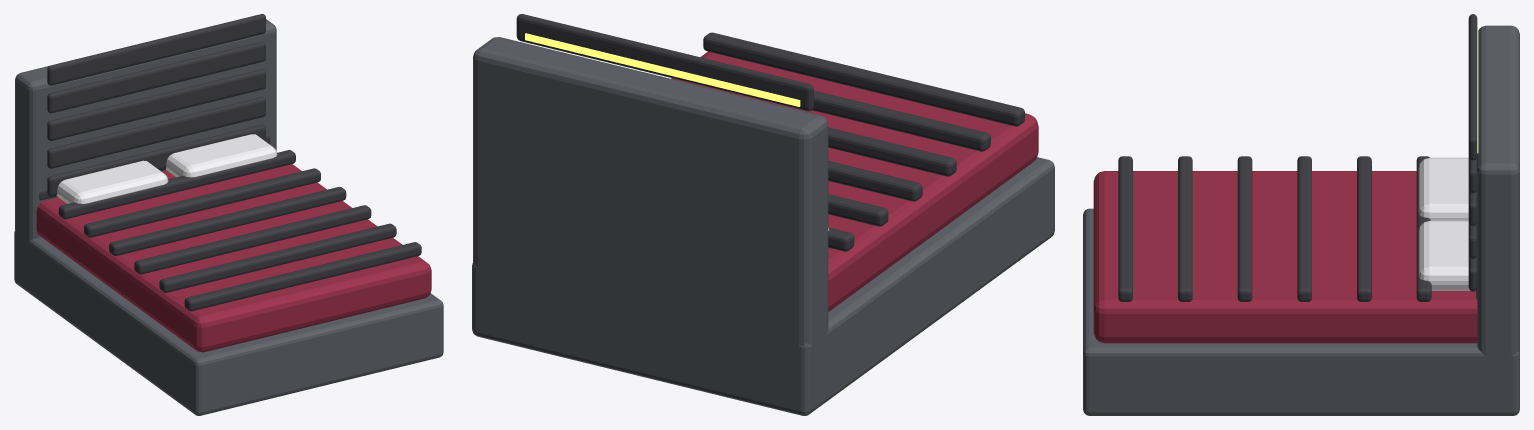
The model's file is bed_ribbed.glb.
3 renders of one model, left to right at view 1: azimuth 30°, elevation 25°; view 2: azimuth 150°, elevation 25°; view 3: azimuth 270°, elevation 25°, orthographic. The views are drawn at different scales.
Visible parts, largest first — view 1: GD_bed_ribbed__m2, GD_bed_ribbed__m0, GD_bed_ribbed__m1, GD_bed_ribbed__m4; view 2: GD_bed_ribbed__m0, GD_bed_ribbed__m2, GD_bed_ribbed__m1, GD_bed_ribbed__m3; view 3: GD_bed_ribbed__m1, GD_bed_ribbed__m0, GD_bed_ribbed__m2, GD_bed_ribbed__m4.
Part boxes in pixels (x1,y1,x2,y2): GD_bed_ribbed__m2: (39, 14, 421, 311); GD_bed_ribbed__m0: (14, 19, 443, 415); GD_bed_ribbed__m1: (36, 164, 431, 352); GD_bed_ribbed__m4: (56, 134, 277, 203); GD_bed_ribbed__m0: (472, 37, 1054, 415); GD_bed_ribbed__m2: (516, 14, 1024, 251); GD_bed_ribbed__m1: (671, 51, 1038, 311); GD_bed_ribbed__m3: (525, 33, 800, 106); GD_bed_ribbed__m1: (1093, 171, 1477, 343); GD_bed_ribbed__m0: (1083, 25, 1519, 415); GD_bed_ribbed__m2: (1118, 14, 1477, 301); GD_bed_ribbed__m4: (1418, 157, 1476, 290).
Size of the model in its own units: 1.6 by 1.4 by 2.05.
